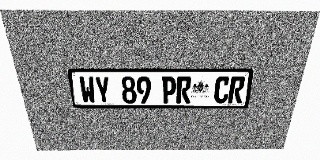8: (121, 76, 137, 103)
9: (136, 76, 151, 103)
C: (213, 76, 231, 103)
P: (162, 76, 176, 103)
R: (228, 76, 246, 103), (176, 76, 192, 103)
W: (78, 76, 97, 103)
Y: (94, 76, 111, 103)
